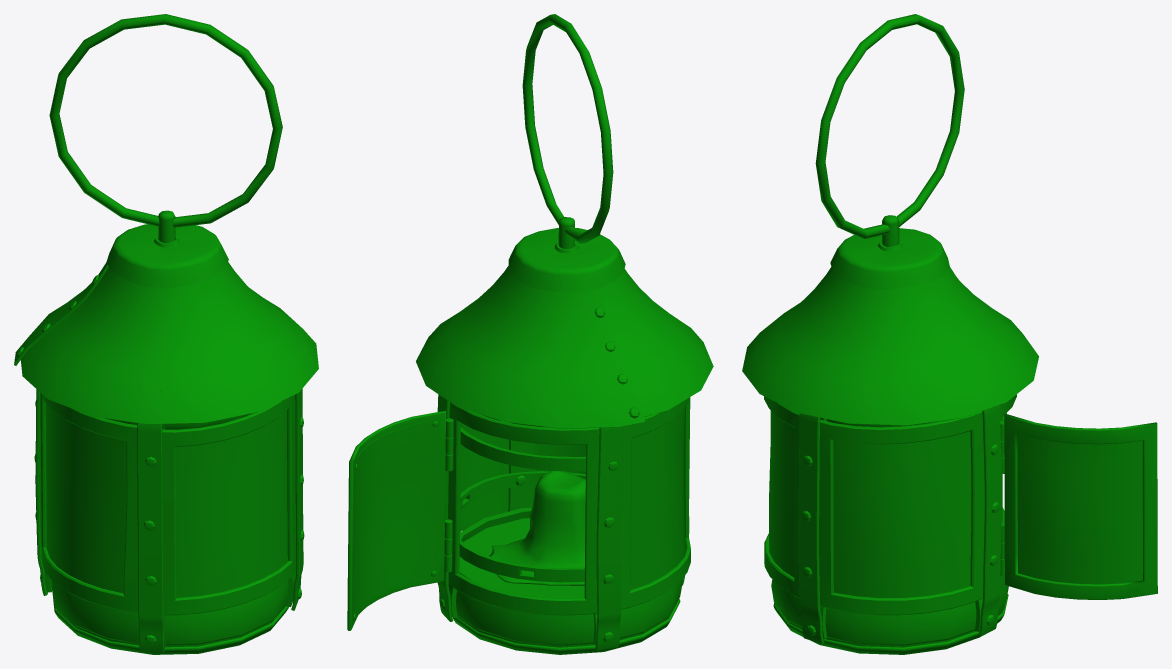
Rendered from SM_Lantern.fbx.
3 renders of one model, left to right at view 1: azimuth 30°, elevation 25°; view 2: azimuth 150°, elevation 25°; view 3: azimuth 270°, elevation 25°, orthographic.
Parts seen in each view (by area): view 1: SM_Lantern; view 2: SM_Lantern; view 3: SM_Lantern.
Boxes of the visible parts, box(x1,y1,x2,y2) form: SM_Lantern: box(14, 14, 318, 654); SM_Lantern: box(347, 14, 713, 654); SM_Lantern: box(742, 14, 1157, 654).
Size of the model in its own units: 24.49 by 34.35 by 53.52.
